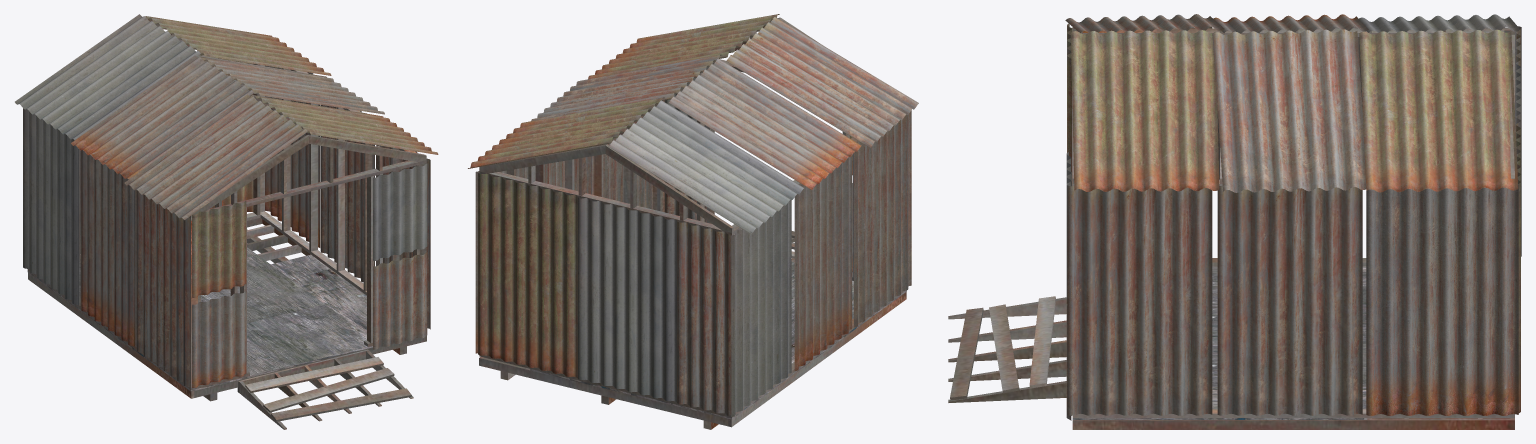
File: shack.fbx
3 renders of one model, left to right at view 1: azimuth 30°, elevation 25°; view 2: azimuth 150°, elevation 25°; view 3: azimuth 270°, elevation 25°, orthographic. The views are drawn at different scales.
Visible parts, largest first — view 1: Frame, Sheeting..006, Sheeting..004, Sheeting..005, Sheeting. (×2), Sheeting..003, Sheeting..001, Sheeting..002, Floorboards.002, Sheeting..008, Sheeting..007, Sheeting..011 (+9 smaller); view 2: Sheeting..016, Sheeting..015, Frame, Sheeting..006, Sheeting..005, Sheeting..004, Sheeting..003, Sheeting..001, Sheeting..002, Sheeting..017, Sheeting..011, Sheeting..010 (+6 smaller); view 3: Sheeting..012, Sheeting..014, Sheeting..013, Sheeting..011, Sheeting..010, Sheeting..009, Frame, Sheeting..006, Sheeting..004, Sheeting..005, Sheeting..015, Floorboards (+2 smaller).
Part boxes in pixels (x1,y1,x2,y2): Frame: (27,19,426,429); Sheeting..006: (15,14,200,139); Sheeting..004: (124,94,307,219); Sheeting..005: (71,55,254,179); Sheeting. (×2): (192,200,246,387); Sheeting..003: (23,108,79,306); Sheeting..001: (136,190,190,388); Sheeting..002: (81,150,135,347); Floorboards.002: (247,304,372,368); Sheeting..008: (373,163,427,260); Sheeting..007: (373,252,427,349); Sheeting..011: (145,16,331,75); Sheeting..016: (577,197,676,402); Sheeting..015: (478,173,577,377); Frame: (479,17,906,429); Sheeting..006: (608,100,804,233); Sheeting..005: (668,58,861,189); Sheeting..004: (726,17,918,147); Sheeting..003: (731,199,791,416); Sheeting..001: (854,110,911,327); Sheeting..002: (794,156,851,370); Sheeting..017: (677,221,730,416); Sheeting..011: (468,97,664,168); Sheeting..010: (531,54,721,121); Sheeting..012: (1366,185,1518,415); Sheeting..014: (1067,185,1212,415); Sheeting..013: (1217,186,1362,415); Sheeting..011: (1359,29,1518,192); Sheeting..010: (1212,29,1366,192); Sheeting..009: (1070,30,1219,191); Frame: (948,22,1514,429); Sheeting..006: (1359,14,1519,32); Sheeting..004: (1065,14,1224,32); Sheeting..005: (1213,14,1368,33); Sheeting..015: (1516,123,1520,413); Floorboards: (1072,387,1367,419).
Size of the model in its own units: 2.75 by 2.44 by 3.79.
